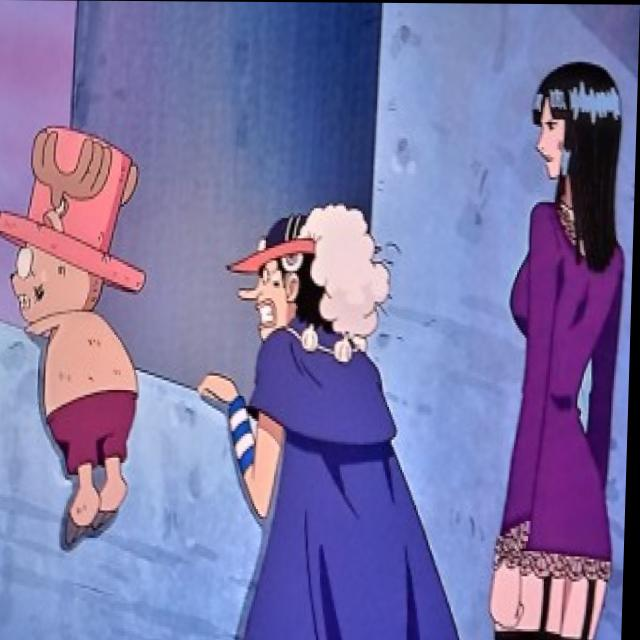Chyopa: (0, 114, 163, 543)
NicoRobin: (515, 55, 631, 274)
Usopp: (217, 200, 408, 381)
